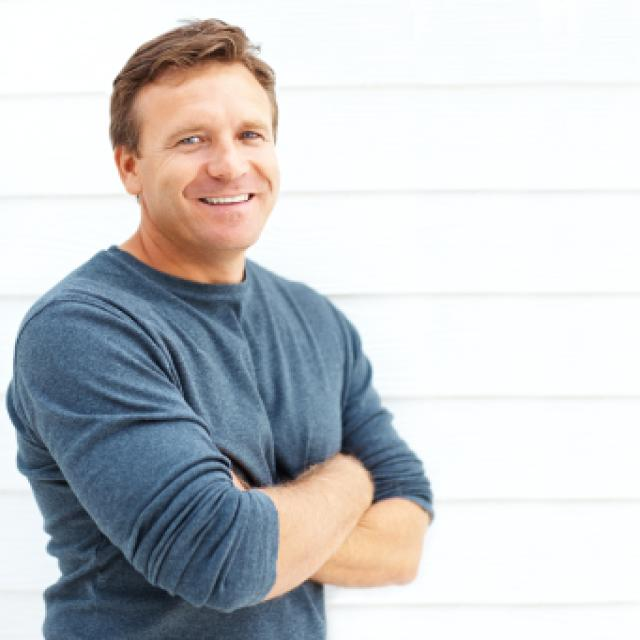mobile_phonerotation: (4, 16, 435, 638)
